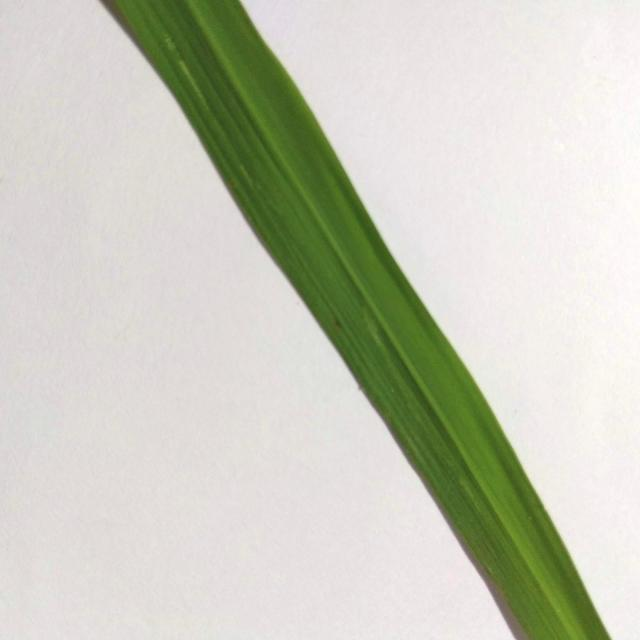healthy: (86, 0, 624, 640)
